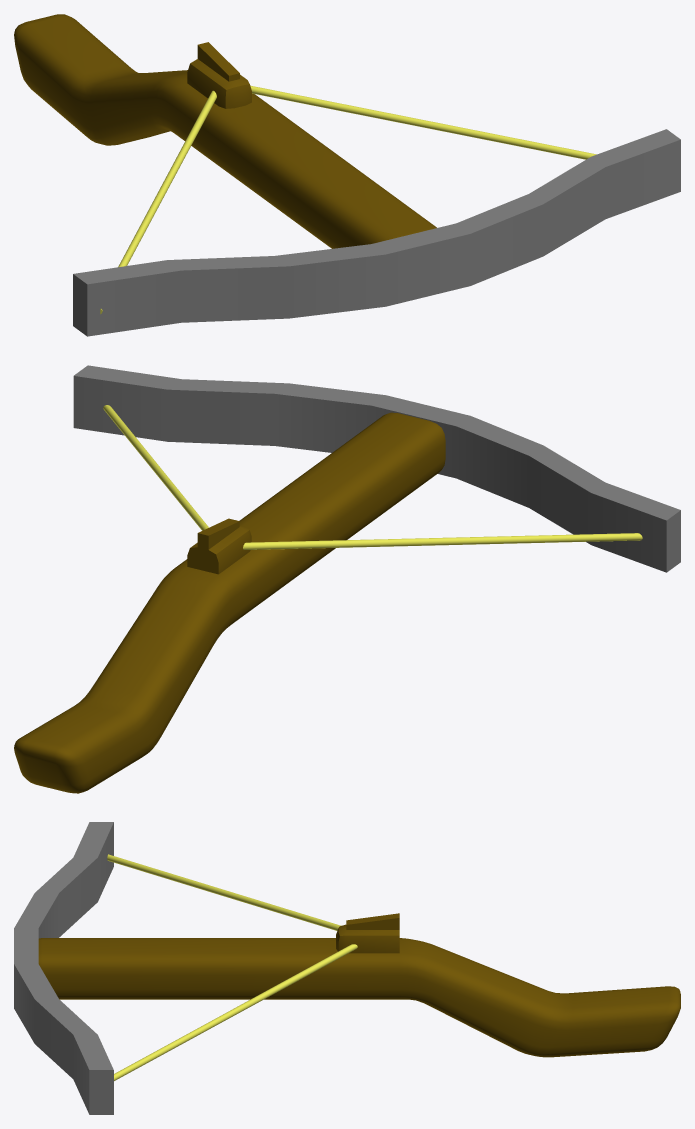
Rendered from ballesta (1).fbx.
The picture shows the model from 3 angles, top to bottom: view 1: azimuth 30°, elevation 25°; view 2: azimuth 150°, elevation 25°; view 3: azimuth 270°, elevation 25°; orthographic projection. The views are drawn at different scales.
Parts seen in each view (by area): view 1: Box005, Box004, Cylinder004, Cylinder005; view 2: Box004, Box005, Cylinder005, Cylinder004; view 3: Box004, Box005, Cylinder004, Cylinder005.
Boxes of the visible parts, x1,y1,x2,y2 form: Box005: (73, 129, 680, 336); Box004: (14, 14, 436, 248); Cylinder004: (250, 85, 596, 159); Cylinder005: (100, 90, 216, 314); Box004: (14, 412, 445, 793); Box005: (73, 365, 680, 572); Cylinder005: (243, 533, 642, 549); Cylinder004: (103, 405, 208, 530); Box004: (38, 913, 680, 1057); Box005: (14, 822, 113, 1114); Cylinder004: (114, 944, 357, 1080); Cylinder005: (107, 854, 340, 930).
Size of the model in its own units: 3.77 by 0.9449 by 4.29.
